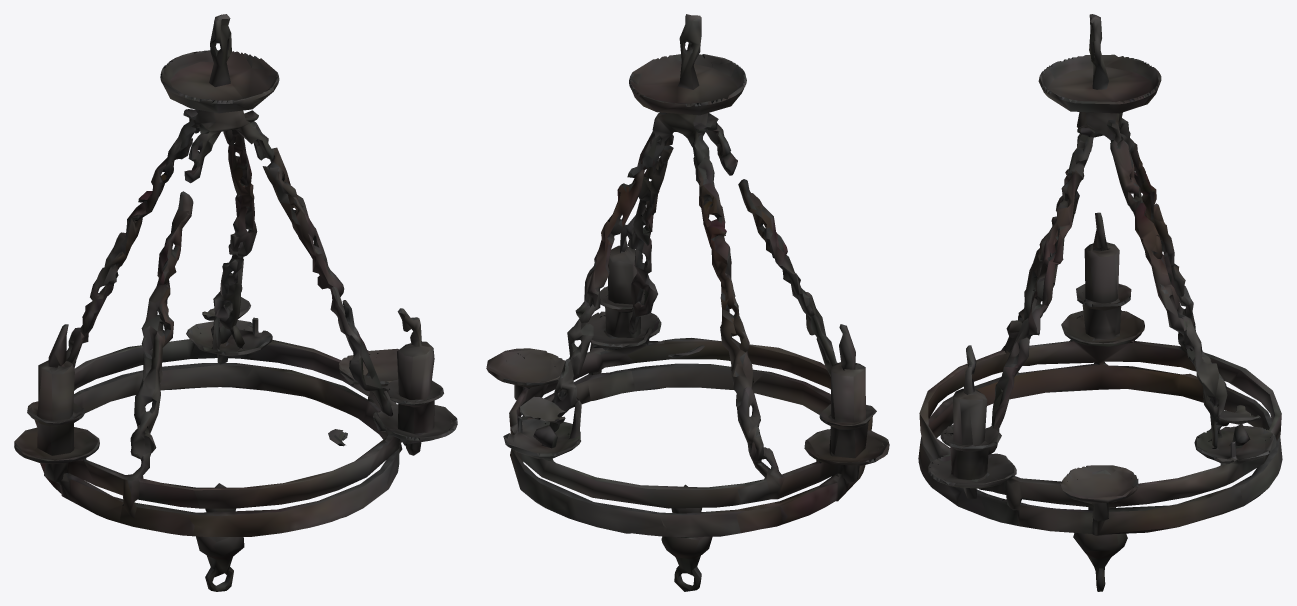
The model's file is old-iron-chandelier-v002.glb.
3 renders of one model, left to right at view 1: azimuth 30°, elevation 25°; view 2: azimuth 150°, elevation 25°; view 3: azimuth 270°, elevation 25°, orthographic.
Parts seen in each view (by area): view 1: old-iron-chandelier; view 2: old-iron-chandelier; view 3: old-iron-chandelier.
Part boxes in pixels (left/top/right/bottom): old-iron-chandelier: left=14, top=14, right=457, bottom=591; old-iron-chandelier: left=486, top=14, right=889, bottom=591; old-iron-chandelier: left=918, top=14, right=1282, bottom=591.
Bounding box in the file's own units: 0.637 × 0.8884 × 0.511.
1 material, 1 textured.
